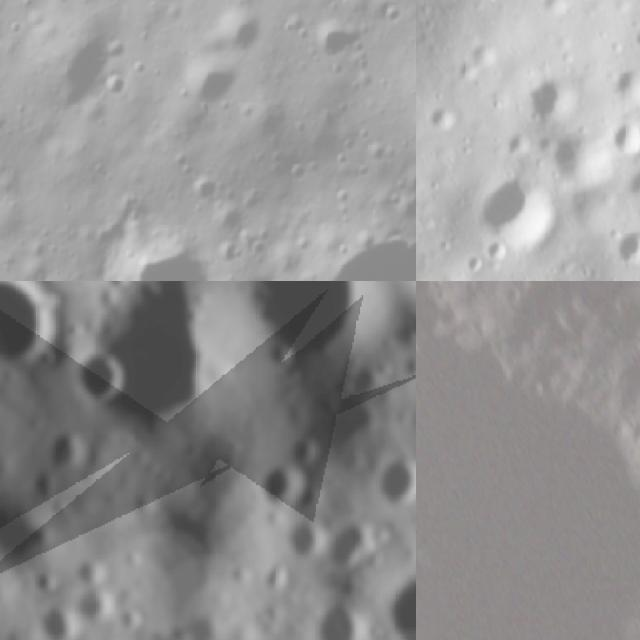crater: (43, 281, 260, 469), (209, 281, 409, 399), (281, 203, 416, 281), (81, 215, 222, 281), (0, 297, 80, 385), (470, 176, 553, 257), (61, 336, 135, 418), (314, 509, 389, 585), (173, 51, 250, 118), (247, 454, 319, 524), (363, 440, 416, 520), (303, 587, 383, 640), (272, 505, 340, 565), (371, 552, 416, 640), (538, 133, 604, 189), (309, 13, 369, 73), (214, 2, 268, 64), (40, 422, 96, 478), (71, 581, 123, 633), (65, 548, 117, 598), (526, 72, 576, 123), (286, 429, 332, 475), (107, 599, 155, 640), (163, 622, 248, 640), (26, 566, 66, 604), (610, 63, 640, 109), (609, 119, 640, 158), (614, 229, 640, 268), (97, 281, 141, 297), (621, 165, 640, 199), (482, 241, 507, 263)
